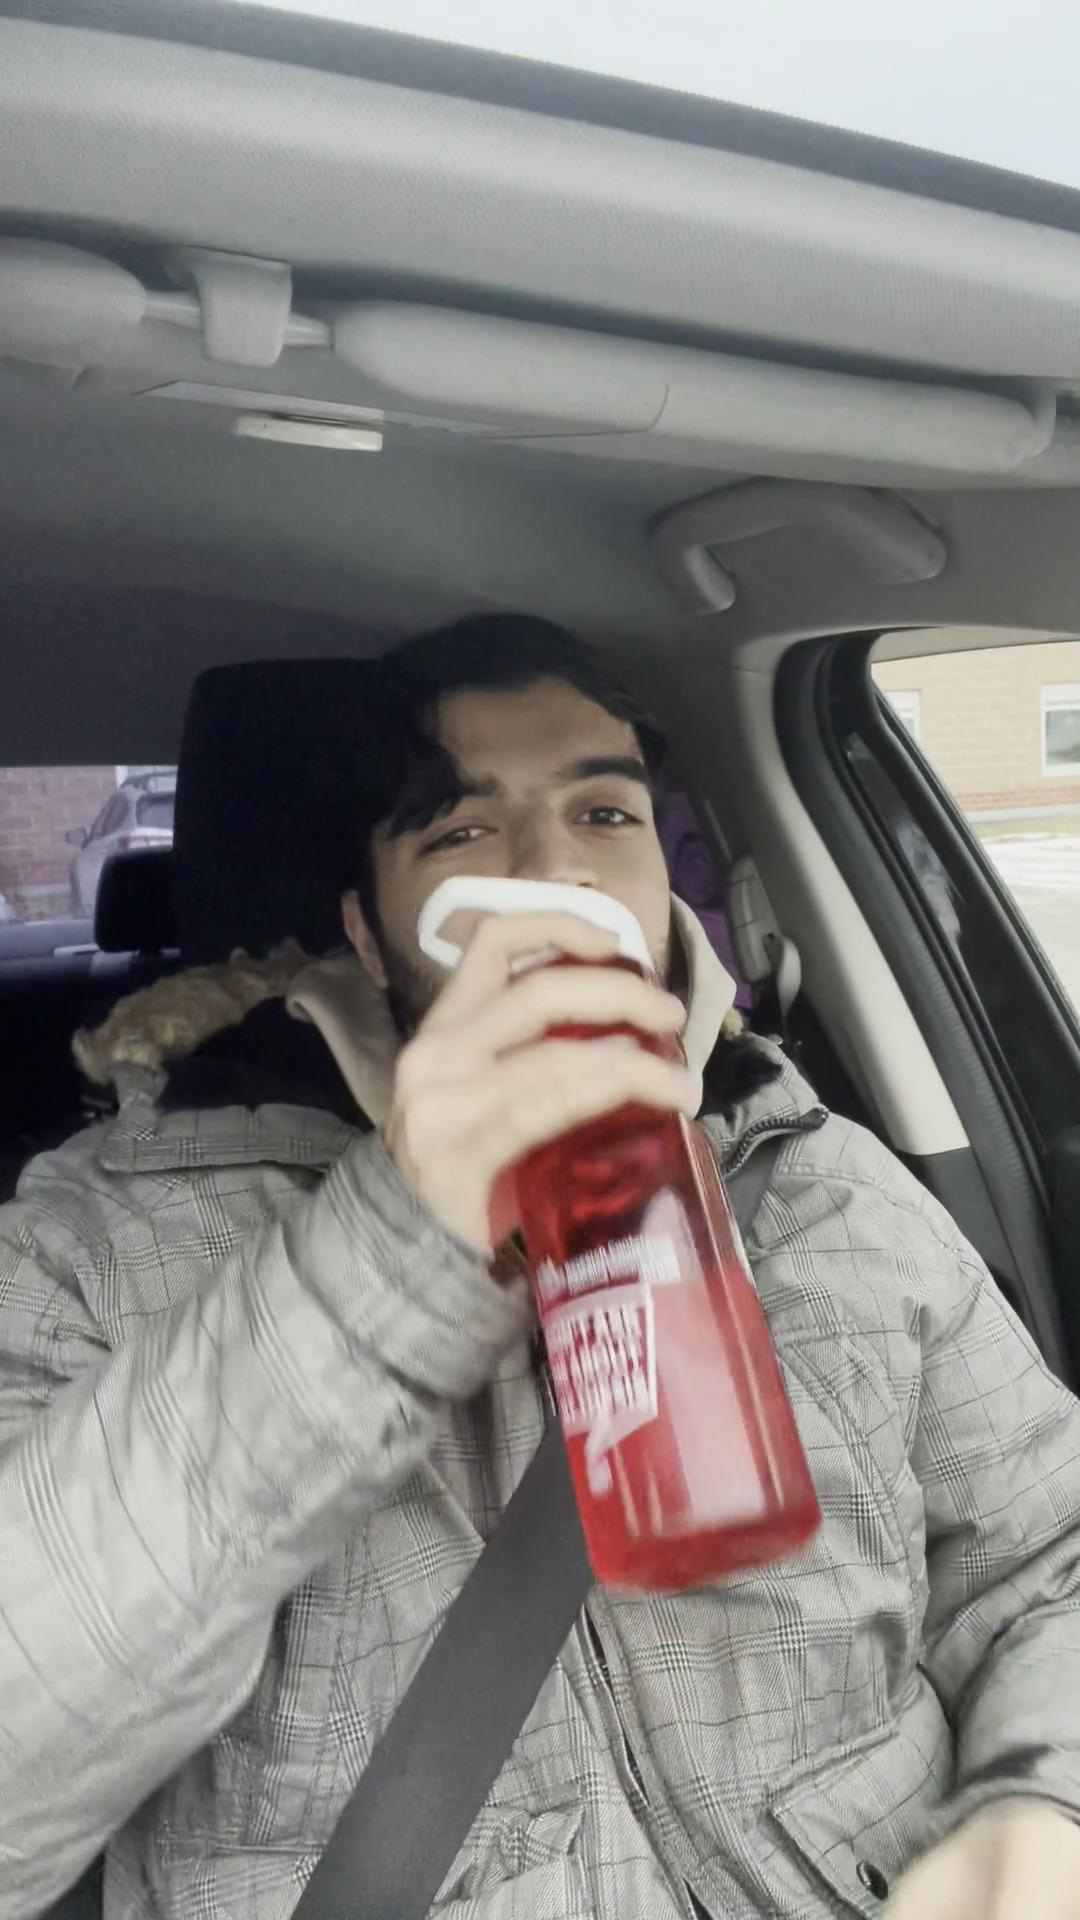drinking: (410, 851, 810, 1605)
seatbelt: (239, 1170, 911, 1920)
